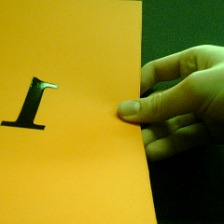orange1: (1, 74, 61, 134)
